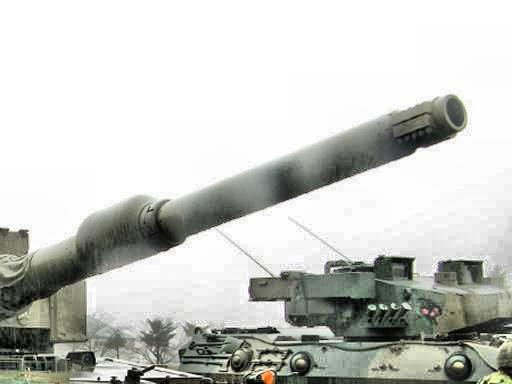tanks: (1, 97, 465, 384), (183, 257, 512, 384)
